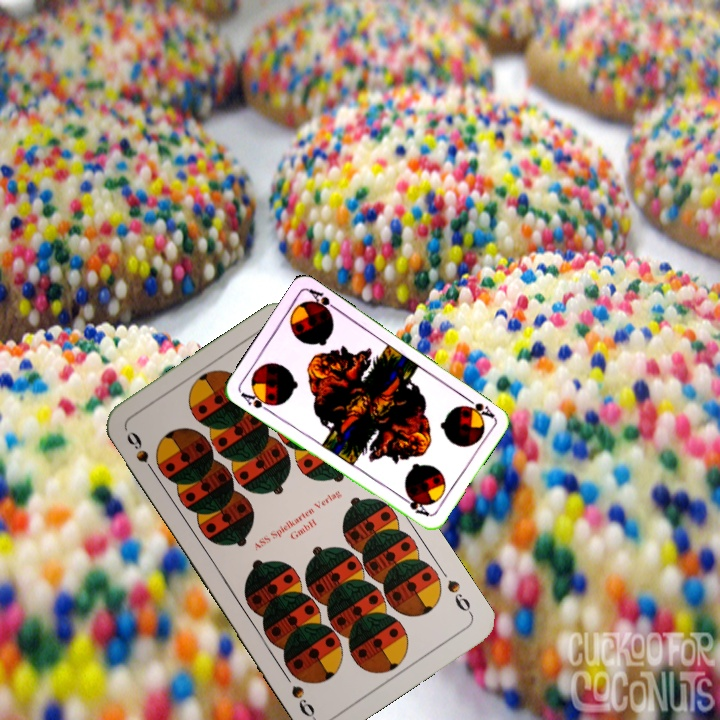S9: (122, 427, 160, 479), (443, 575, 475, 618)
SA: (236, 388, 276, 415), (460, 392, 497, 421)
